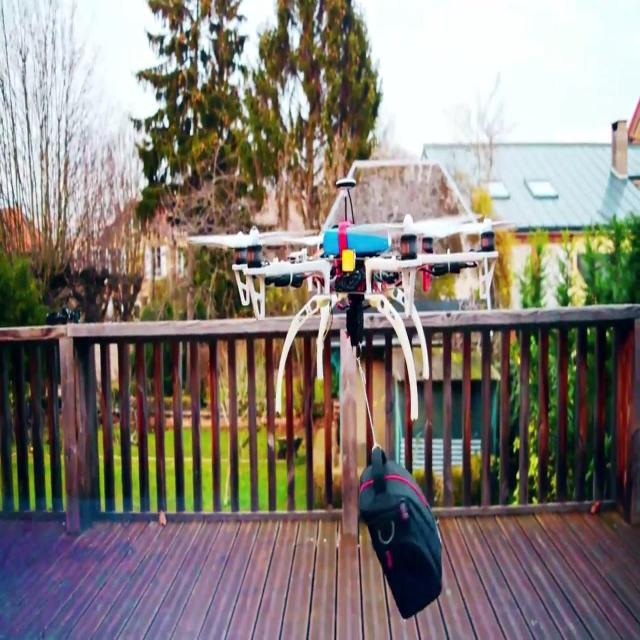drone: (201, 174, 501, 418)
